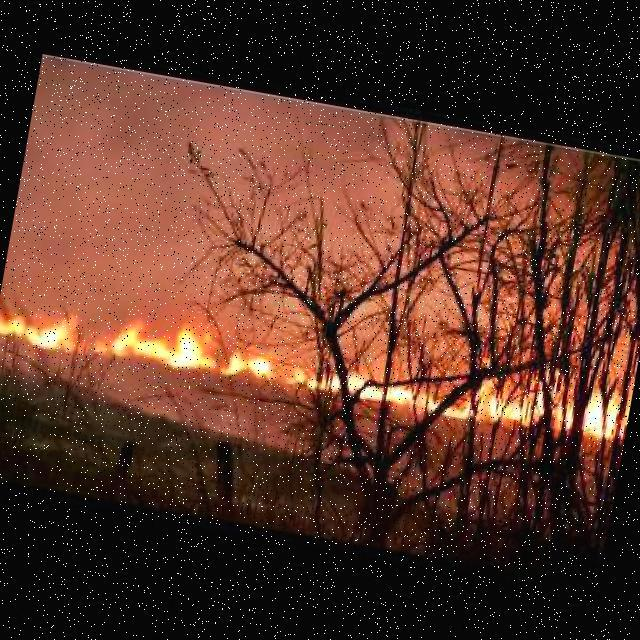Fire: (425, 354, 625, 441), (104, 314, 280, 379), (287, 362, 415, 404), (0, 296, 90, 355)
